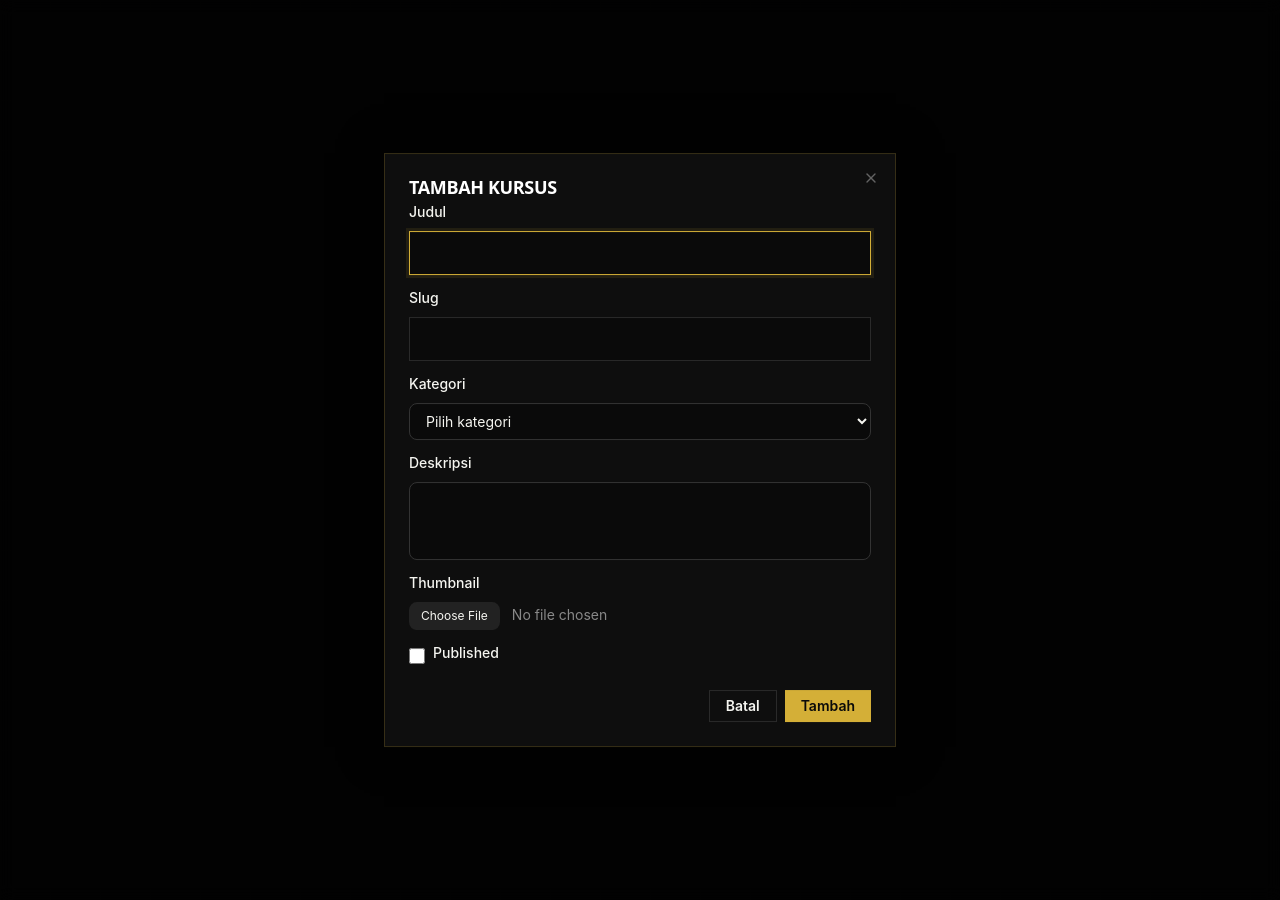
Test: KursusDialog › auto-generates slug from title on add
The image size is (1280, 900).
Type "Kursus Baru!" into the field labelled "Judul" at (640, 253), box left=409, top=231, right=871, bottom=275
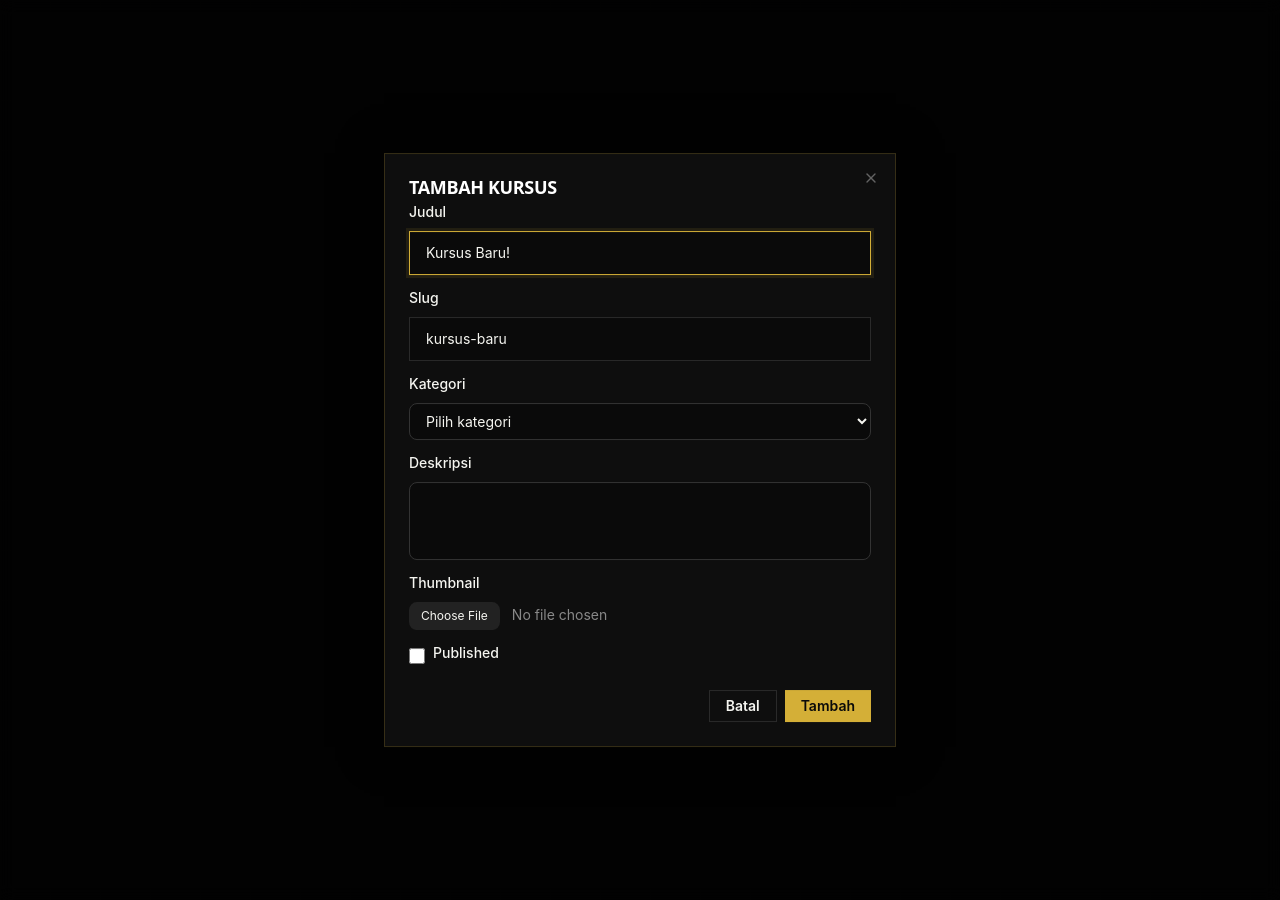
Expected: the field showing "kursus-baru" is shown, left=409, top=317, right=871, bottom=361
